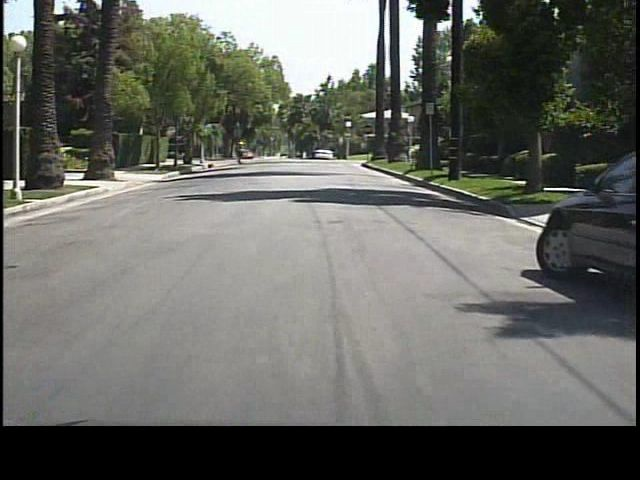person: (234, 135, 249, 167)
